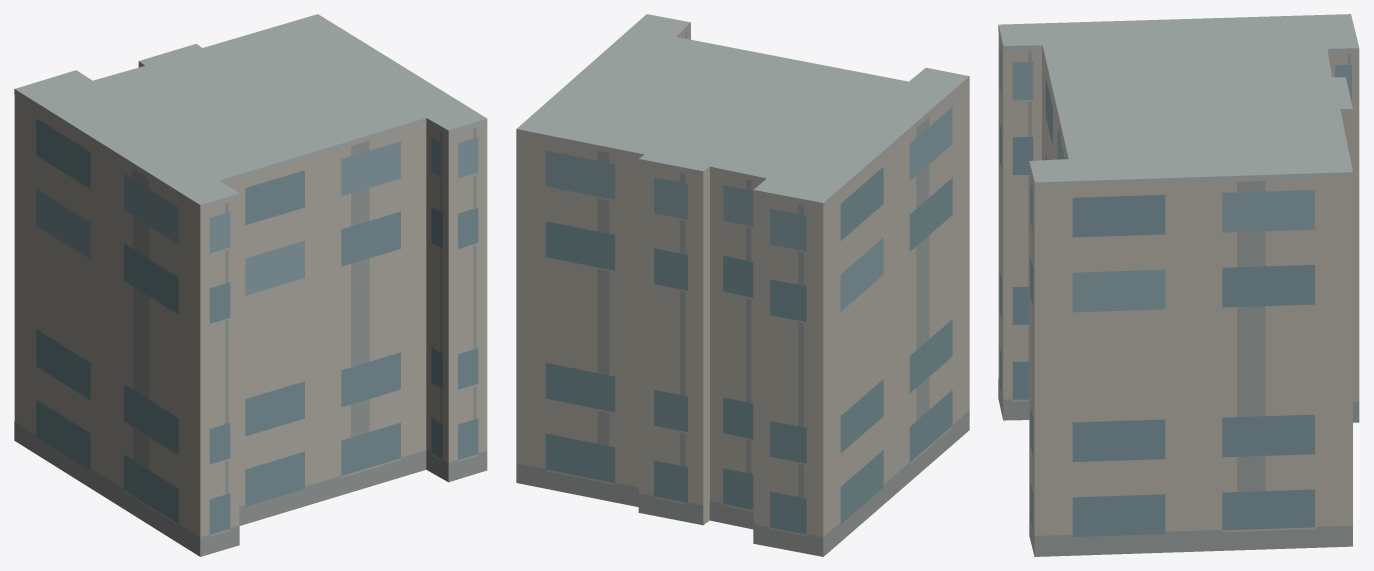
Rendered from survey-upis-32750126.glb.
3 views of the same model, side by side, from view 1: azimuth 30°, elevation 25°; view 2: azimuth 150°, elevation 25°; view 3: azimuth 270°, elevation 25° (orthographic). The views are drawn at different scales.
Parts seen in each view (by area): view 1: survey-upis-32750126.tmp; view 2: survey-upis-32750126.tmp; view 3: survey-upis-32750126.tmp.
Boxes of the visible parts, box(x1,y1,x2,y2) form: survey-upis-32750126.tmp: box(14, 14, 487, 556); survey-upis-32750126.tmp: box(516, 14, 969, 556); survey-upis-32750126.tmp: box(998, 14, 1359, 556).
Bounding box in the file's own units: 14.53 × 15.05 × 13.15.
